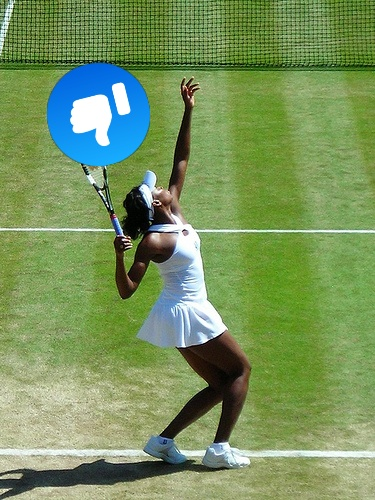like: (47, 63, 150, 166)
